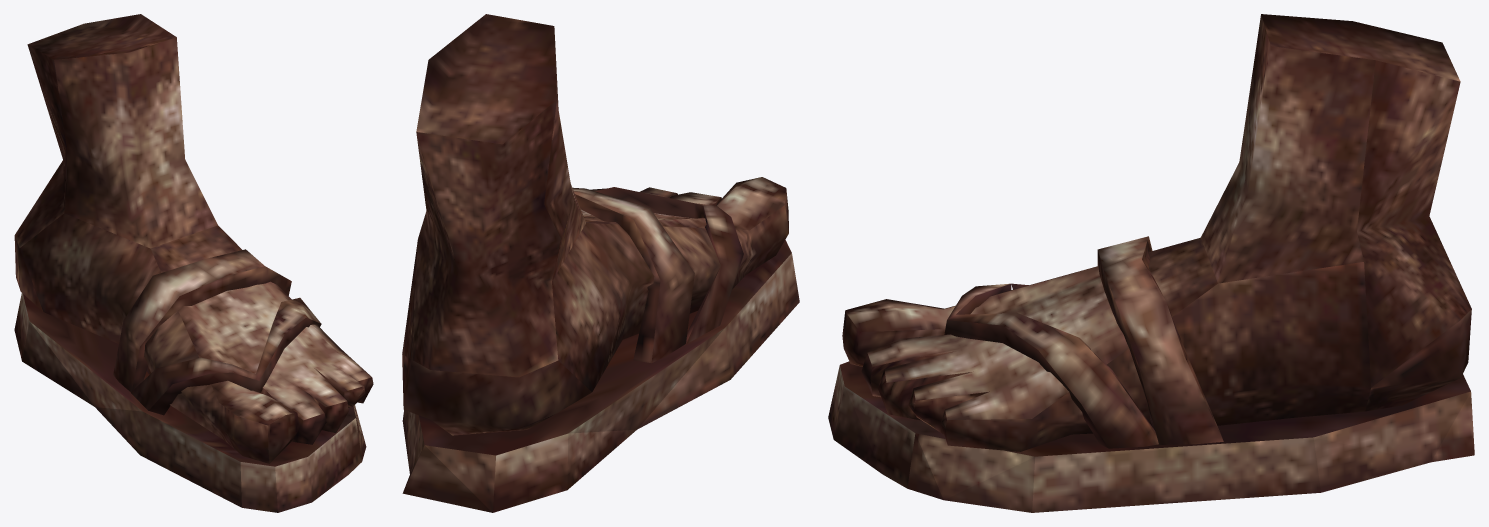
Rendered from ob-bigstatue03.glb.
3 renders of one model, left to right at view 1: azimuth 30°, elevation 25°; view 2: azimuth 150°, elevation 25°; view 3: azimuth 270°, elevation 25°, orthographic. The views are drawn at different scales.
Visible parts, largest first — view 1: Box503; view 2: Box503; view 3: Box503.
Boxes of the visible parts, x1,y1,x2,y2 form: Box503: (14,14,373,512); Box503: (402,14,799,512); Box503: (828,14,1474,512).
Bounding box in the file's own units: 1.88 × 2.98 × 4.18.
1 material, 1 textured.
